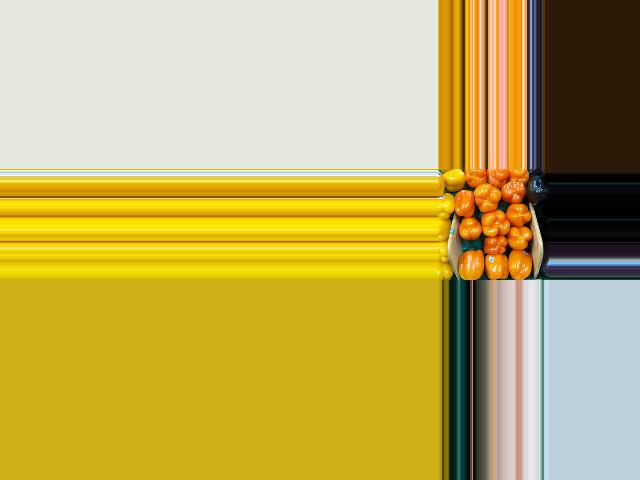bell_pepper: (440, 191, 454, 222)
